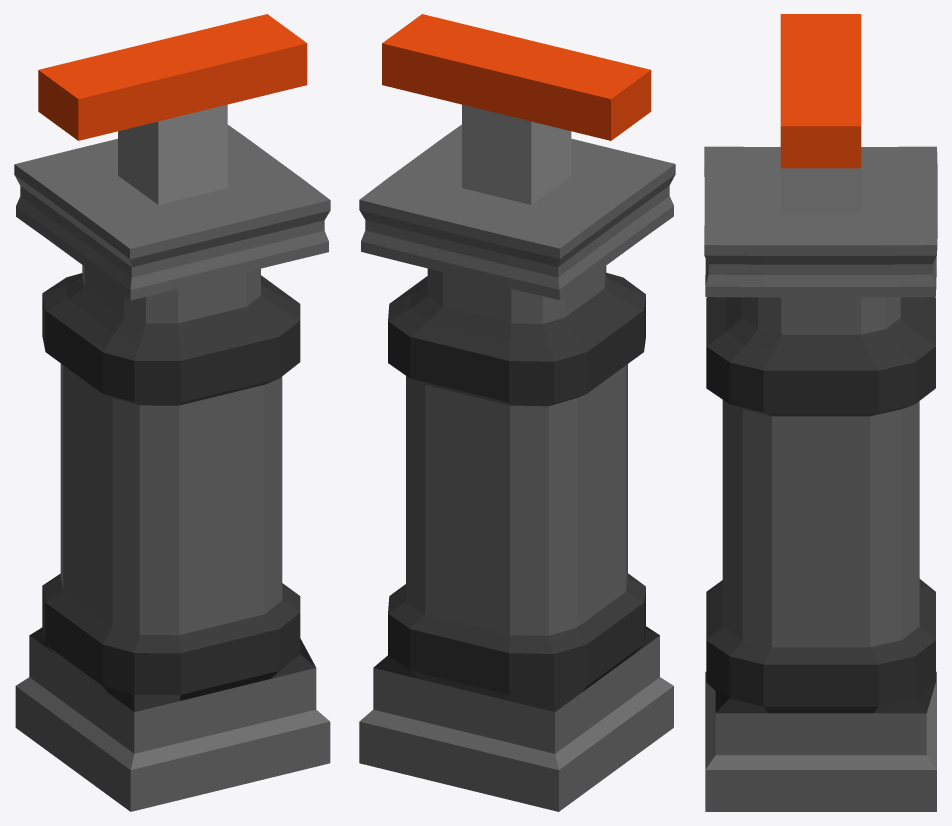
Rendered from MinusPillar.FBX.
The picture shows the model from 3 angles, left to right: view 1: azimuth 30°, elevation 25°; view 2: azimuth 150°, elevation 25°; view 3: azimuth 270°, elevation 25°; orthographic projection.
Parts seen in each view (by area): view 1: Box001; view 2: Box001; view 3: Box001.
Boxes of the visible parts, <box> form: Box001: <box>14,14,330,811</box>; Box001: <box>359,14,675,811</box>; Box001: <box>704,14,937,811</box>.
Size of the model in its own units: 22.97 by 66 by 20.15.
